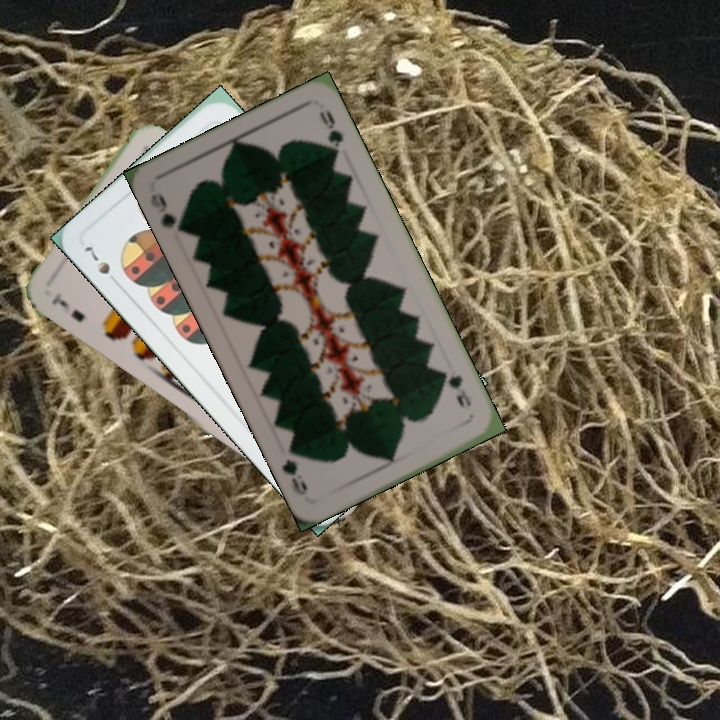E7: (48, 290, 88, 325)
G9: (146, 189, 190, 236), (437, 366, 474, 412)
S7: (79, 242, 123, 290)
